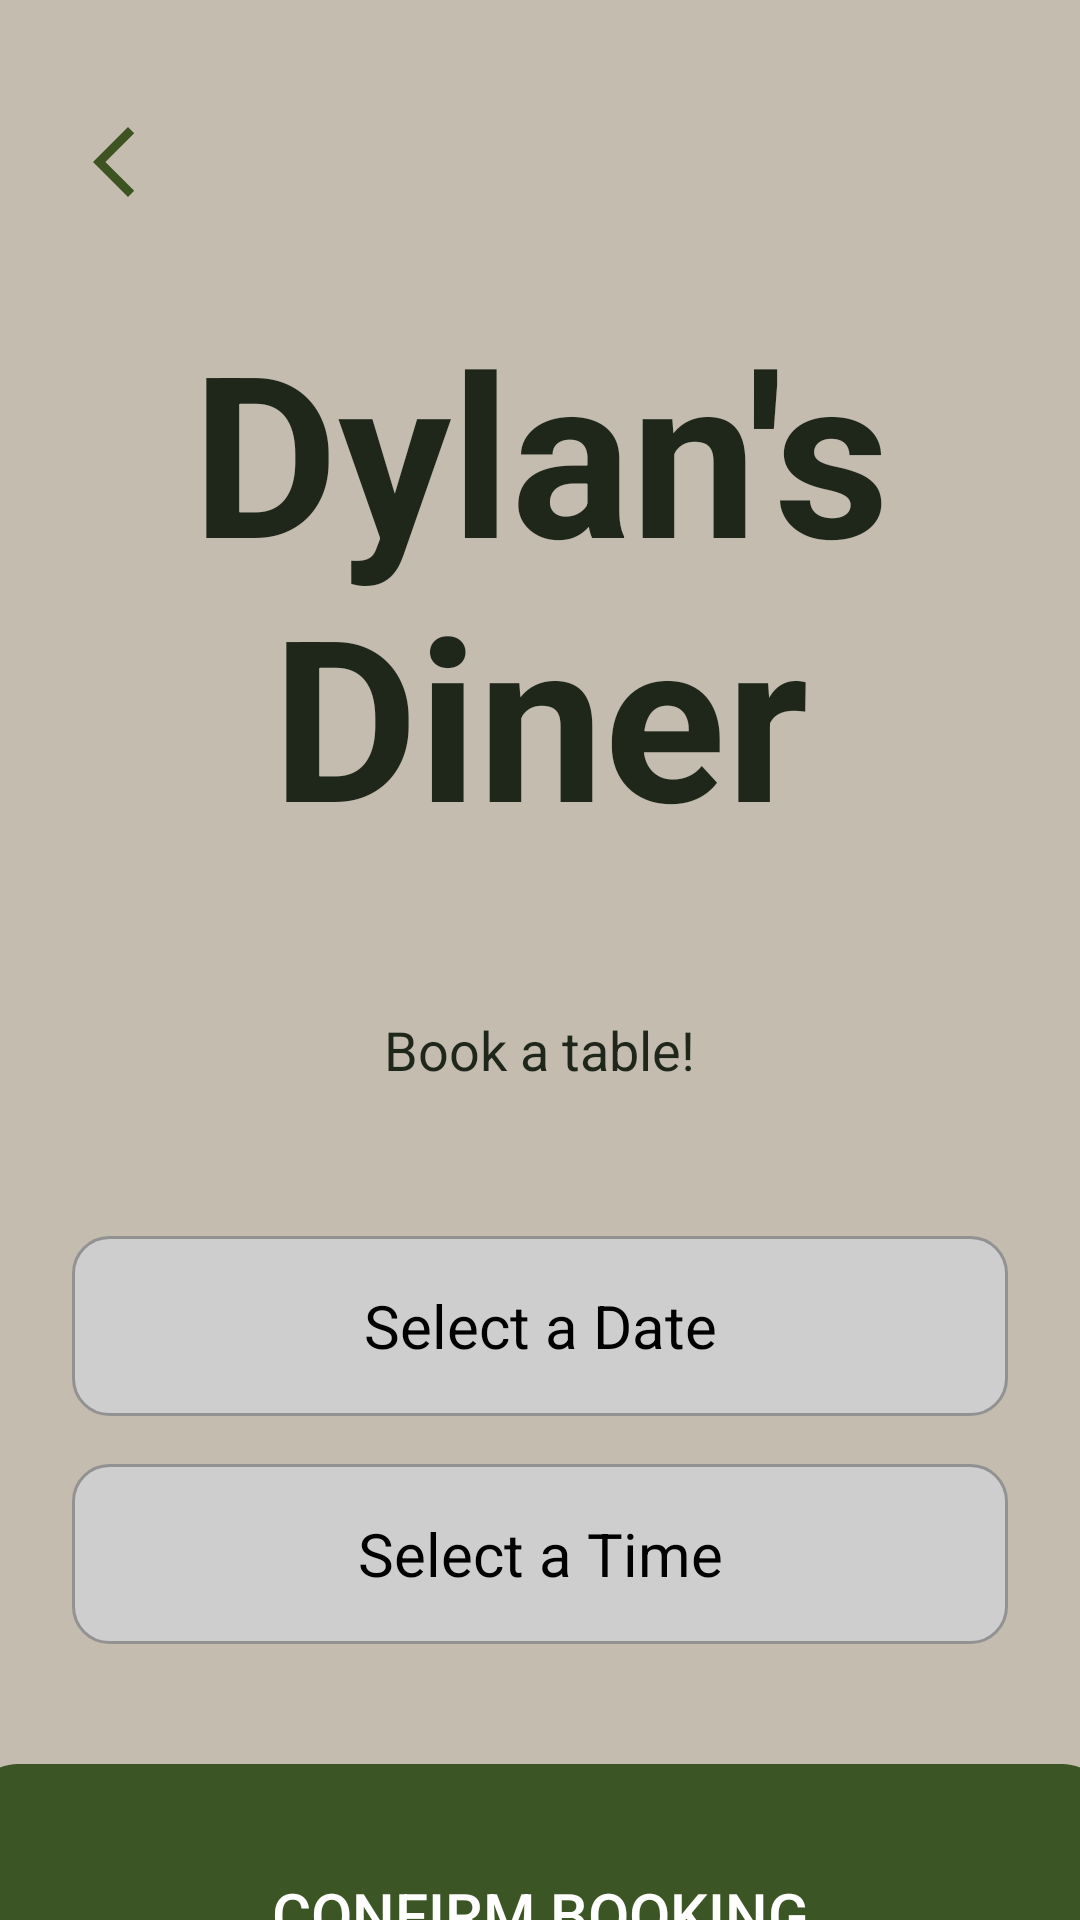

Where to tap for icons on this 1080px x 1920px app screen, as (x=x, y=y):
Back: (x=113, y=162)
